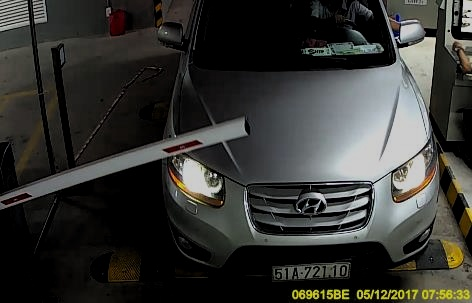plate: (265, 258, 358, 282)
